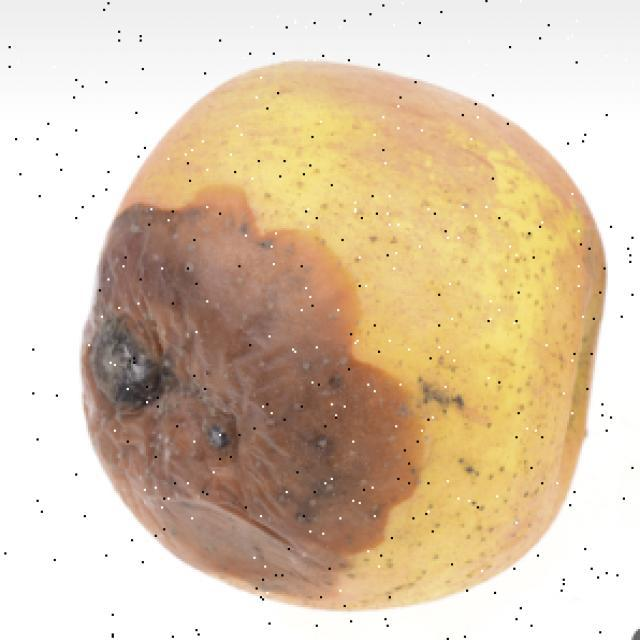Rotten: (103, 88, 600, 632)
